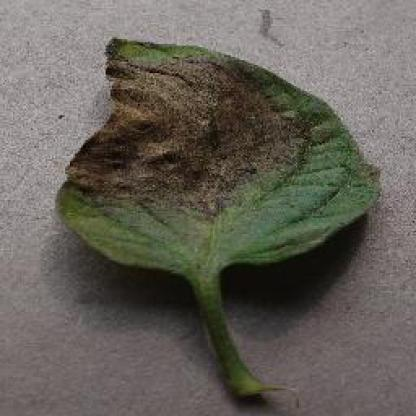bad leaf: (74, 63, 322, 189), (127, 168, 251, 224)
